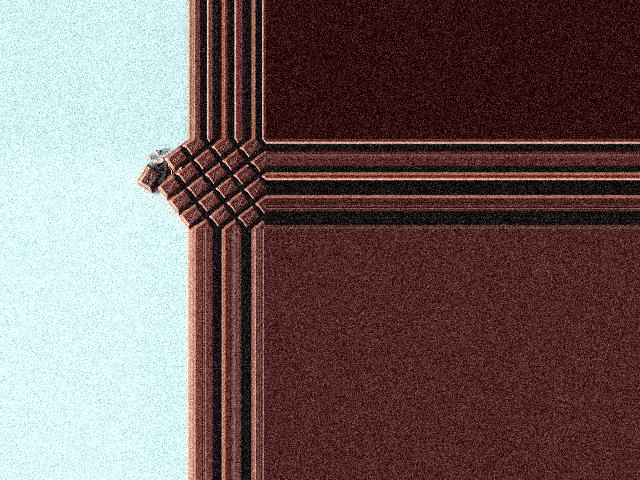chocolate: (150, 140, 266, 225)
